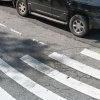Crosswalk: (8, 49, 100, 100)
